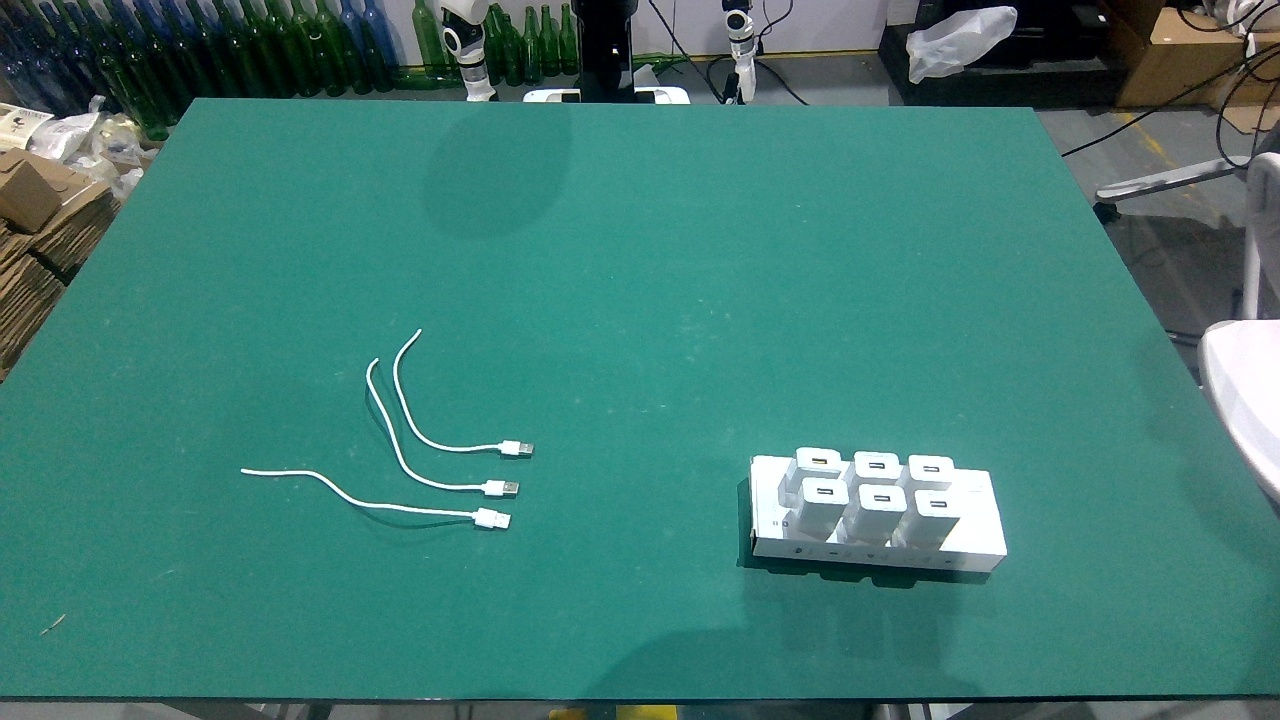usb_a_port: (809, 452, 831, 468), (866, 458, 888, 473), (871, 491, 894, 505), (928, 497, 951, 510), (816, 482, 835, 497), (920, 463, 943, 475)
